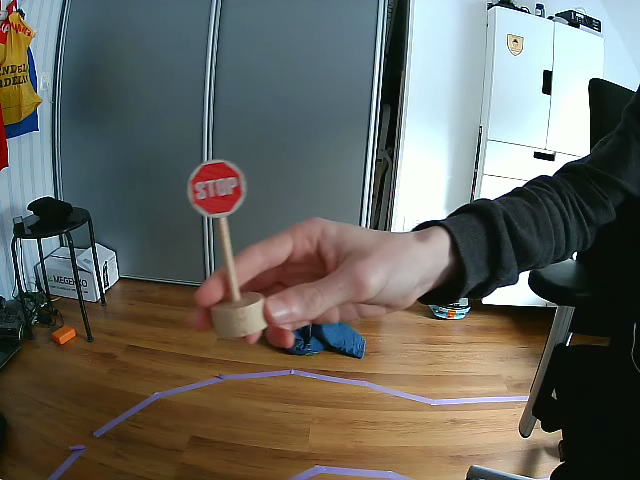stopbord: (188, 159, 244, 217)
